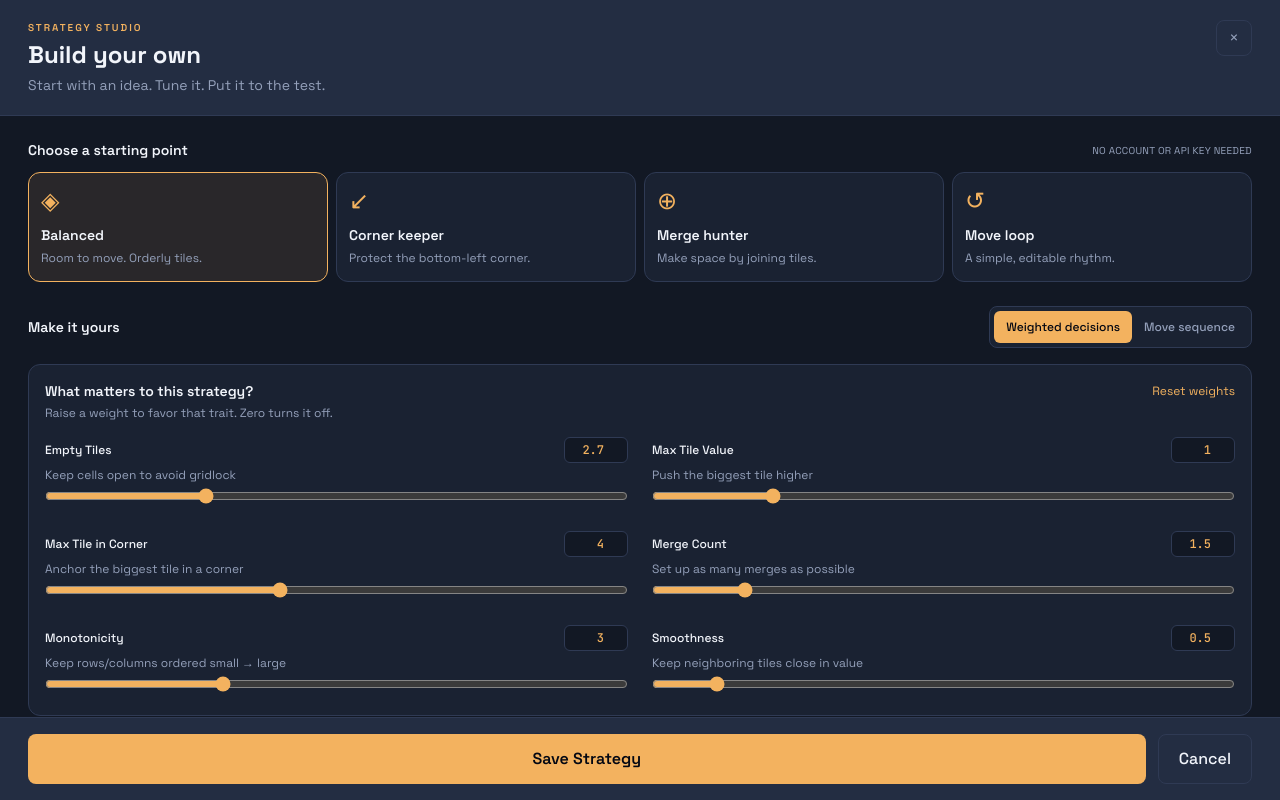
Test: CustomStrategyBuilder › switches modes without losing the draft controls
Replace the text in the number field named "Empty Tiles weight" with "8" at (596, 450), box 564,436 -> 628,462
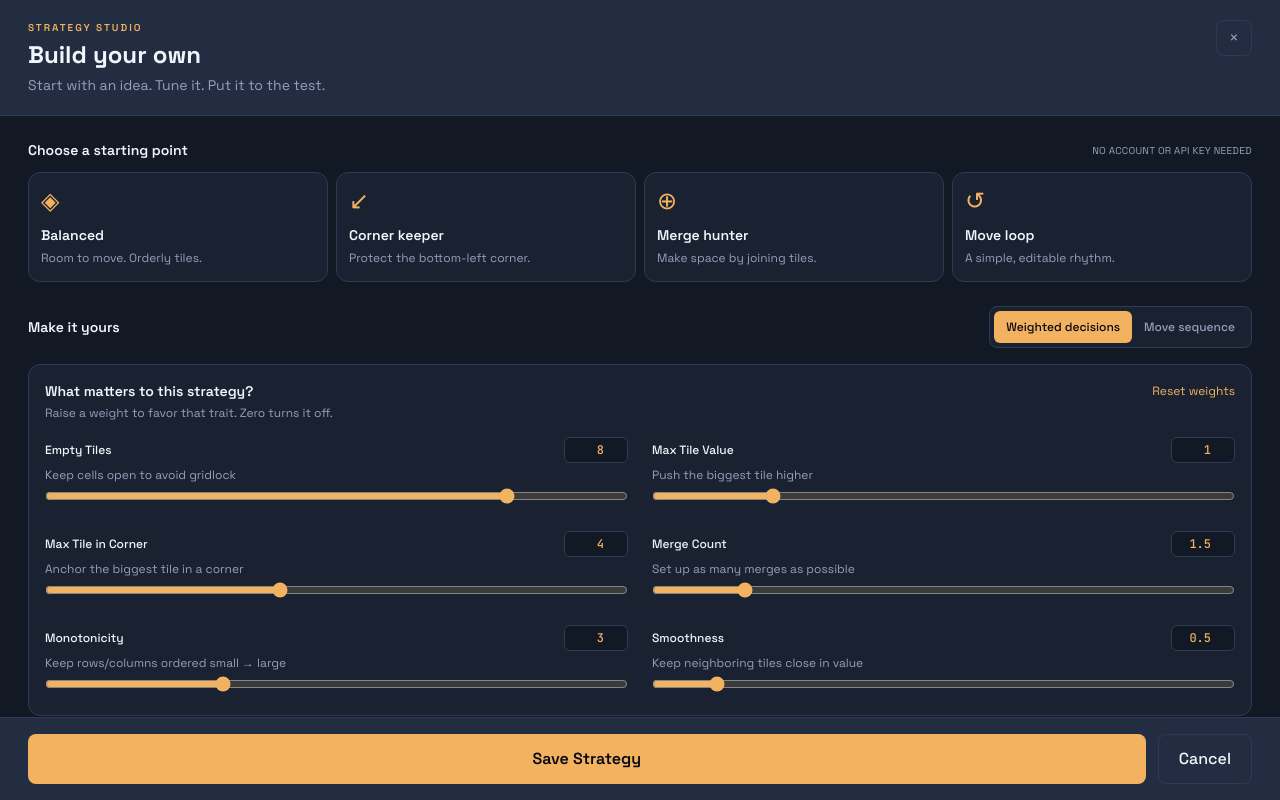
Click the button "Move sequence" at (1190, 326), box 1132,310 -> 1247,342
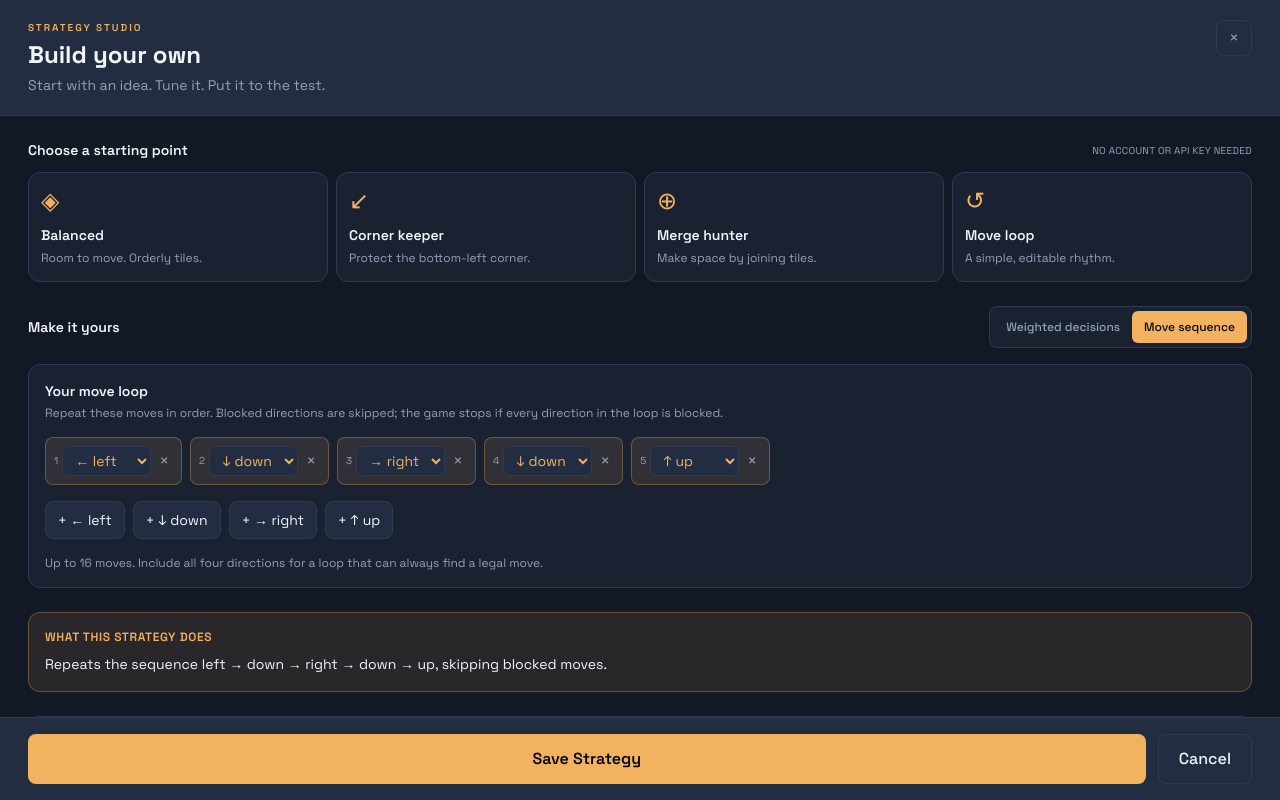
Click the button "Weighted decisions" at (1063, 326), box 994,310 -> 1132,342
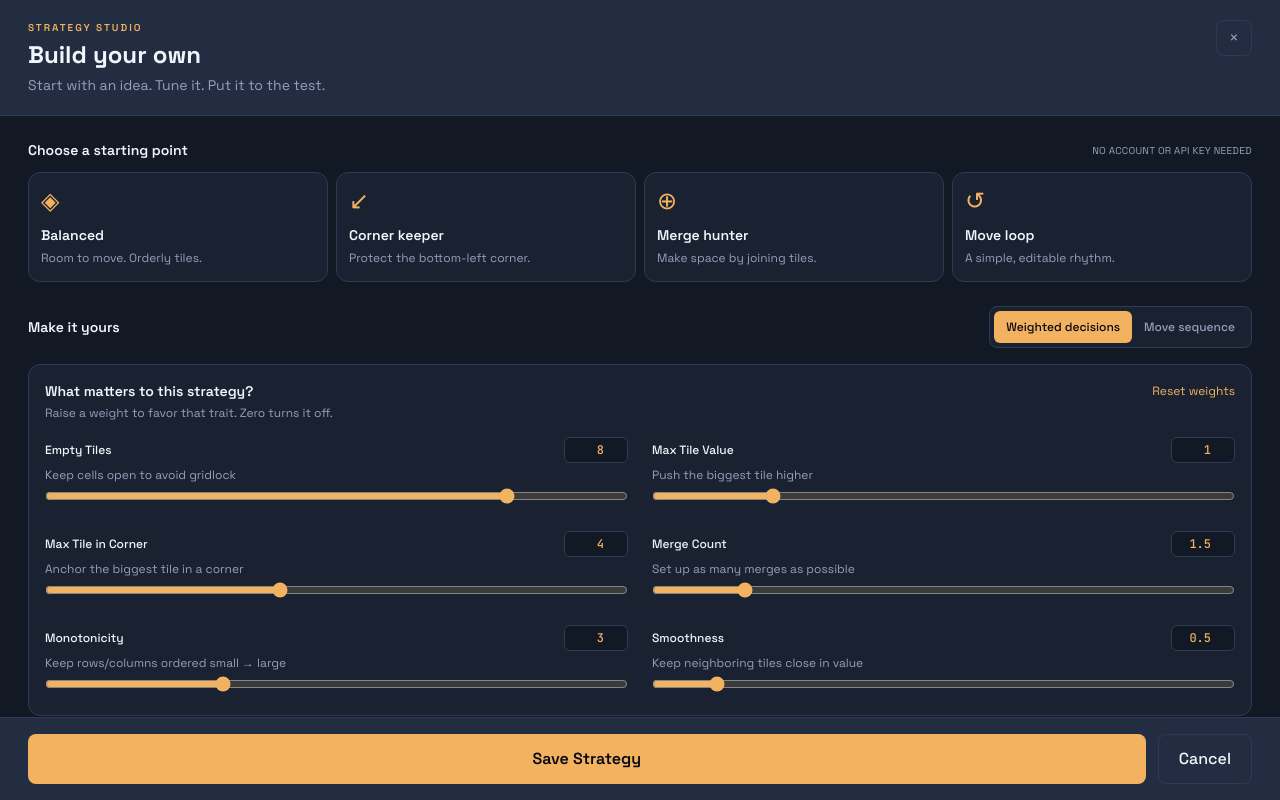
Now the number field named "Empty Tiles weight" holds "8", box 564,436 -> 628,462
